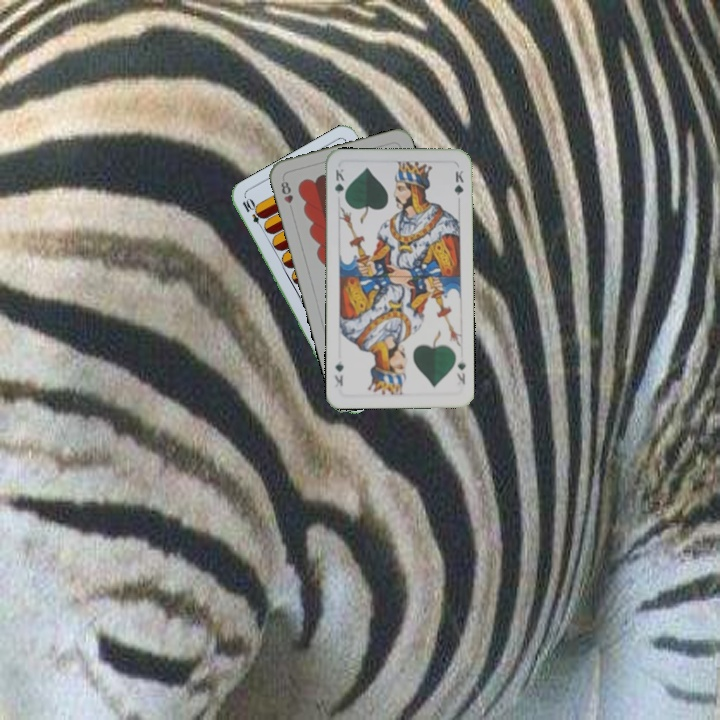E10: (238, 195, 267, 232)
GK: (330, 165, 347, 204), (453, 358, 468, 387)
H8: (277, 175, 296, 215)
